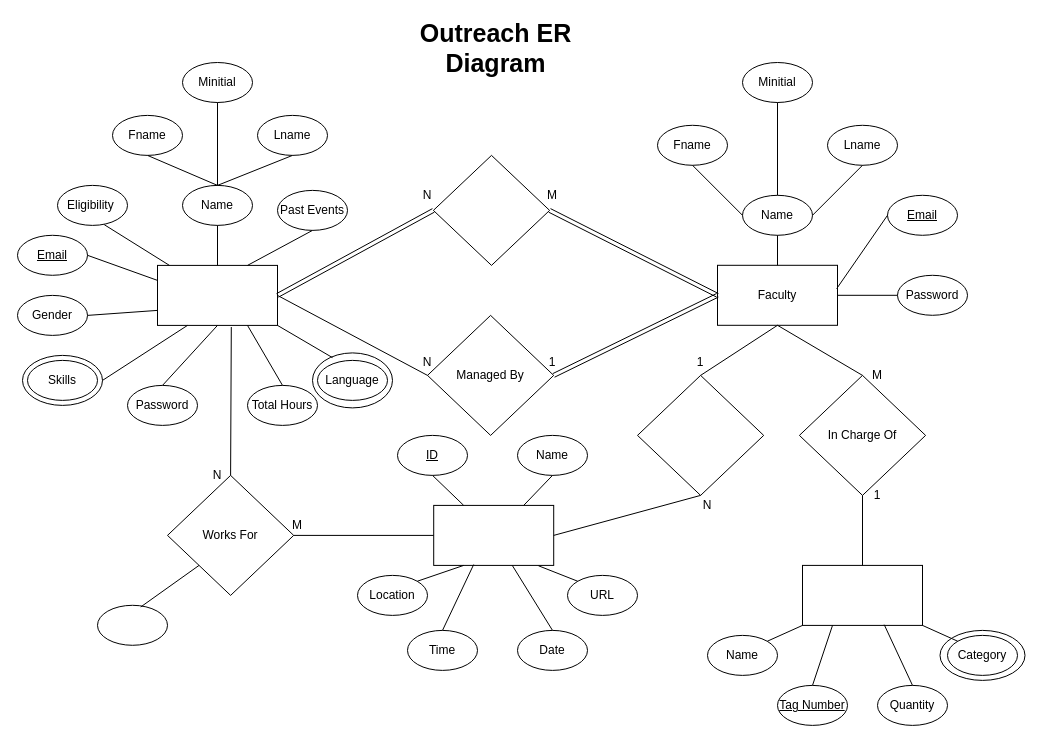
The diagram is 1043 pixels wide and 743 high, and some of its shapes have lost their labels. The centre of each missing label's shape, as x and y in pixels:
Controls: the point at 700,434
Event: the point at 493,534
Hours: the point at 132,624
Inventory: the point at 862,594
Reports to: the point at 491,209
Volunteer: the point at 217,294
